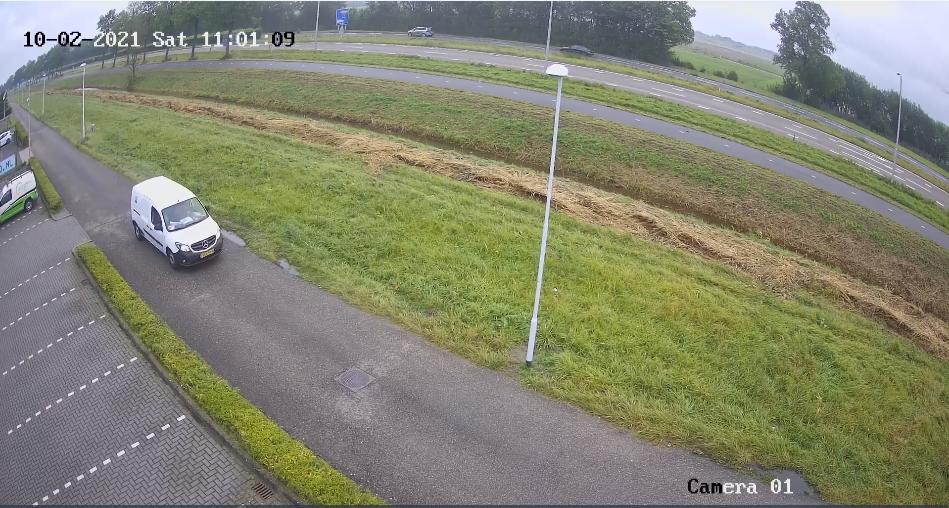werkbus: (120, 170, 231, 276), (1, 164, 56, 227)
